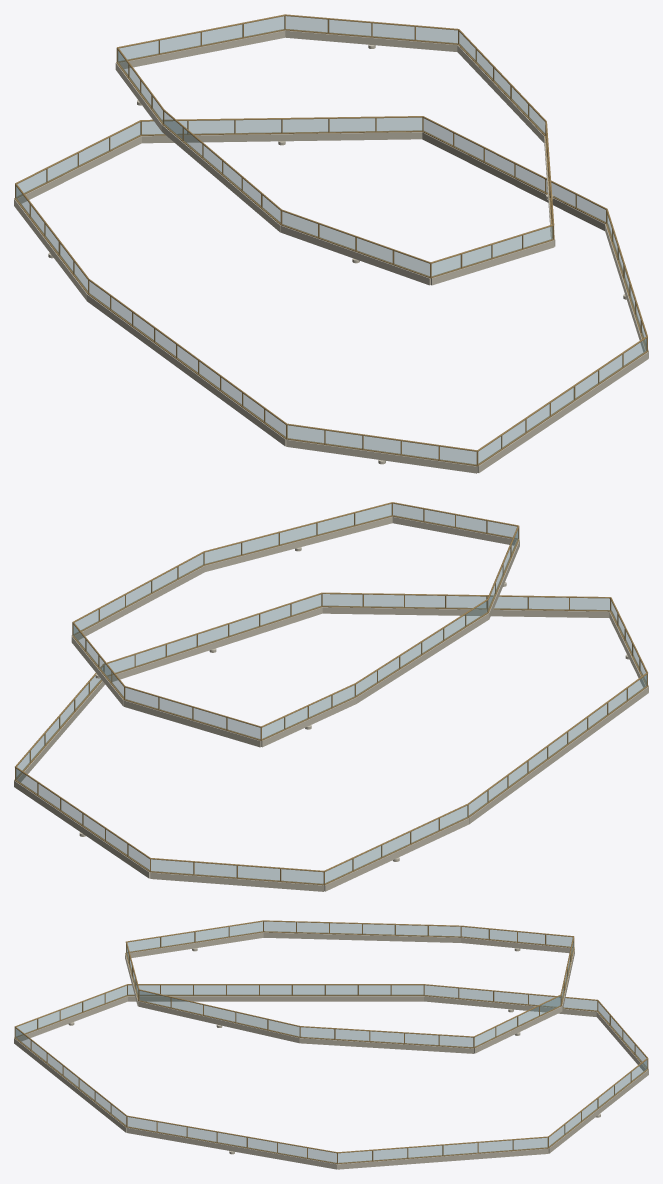
Rendered from AST-AQU-013.glb.
3 renders of one model, top to bottom at view 1: azimuth 30°, elevation 25°; view 2: azimuth 150°, elevation 25°; view 3: azimuth 270°, elevation 25°, orthographic. The views are drawn at different scales.
Visible parts, largest first — view 1: AQU_D09_glass, AQU_D10_glass, AQU_D09_ivory_enamel, AQU_D09_champagne_metal, AQU_D10_ivory_enamel, AQU_D10_champagne_metal; view 2: AQU_D09_glass, AQU_D10_glass, AQU_D09_ivory_enamel, AQU_D09_champagne_metal, AQU_D10_ivory_enamel, AQU_D10_champagne_metal; view 3: AQU_D09_glass, AQU_D10_glass, AQU_D09_ivory_enamel, AQU_D09_champagne_metal, AQU_D10_ivory_enamel, AQU_D10_champagne_metal.
Boxes of the visible parts, <box> form: AQU_D09_glass: <box>16,117,646,464</box>; AQU_D10_glass: <box>117,16,552,276</box>; AQU_D09_ivory_enamel: <box>14,132,648,473</box>; AQU_D09_champagne_metal: <box>14,116,648,466</box>; AQU_D10_ivory_enamel: <box>115,30,555,285</box>; AQU_D10_champagne_metal: <box>116,14,554,278</box>; AQU_D09_glass: <box>16,594,646,883</box>; AQU_D10_glass: <box>73,503,518,739</box>; AQU_D09_ivory_enamel: <box>14,607,648,891</box>; AQU_D09_champagne_metal: <box>14,592,648,885</box>; AQU_D10_ivory_enamel: <box>71,516,519,747</box>; AQU_D10_champagne_metal: <box>72,502,519,740</box>; AQU_D09_glass: <box>15,985,647,1162</box>; AQU_D10_glass: <box>126,921,573,1047</box>; AQU_D09_ivory_enamel: <box>14,996,648,1169</box>; AQU_D09_champagne_metal: <box>14,984,648,1164</box>; AQU_D10_ivory_enamel: <box>125,932,574,1053</box>; AQU_D10_champagne_metal: <box>125,920,574,1048</box>.
Bounding box in the file's own units: 32.5 × 10.25 × 51.53.
Materials: 4 (2 with a texture image).
